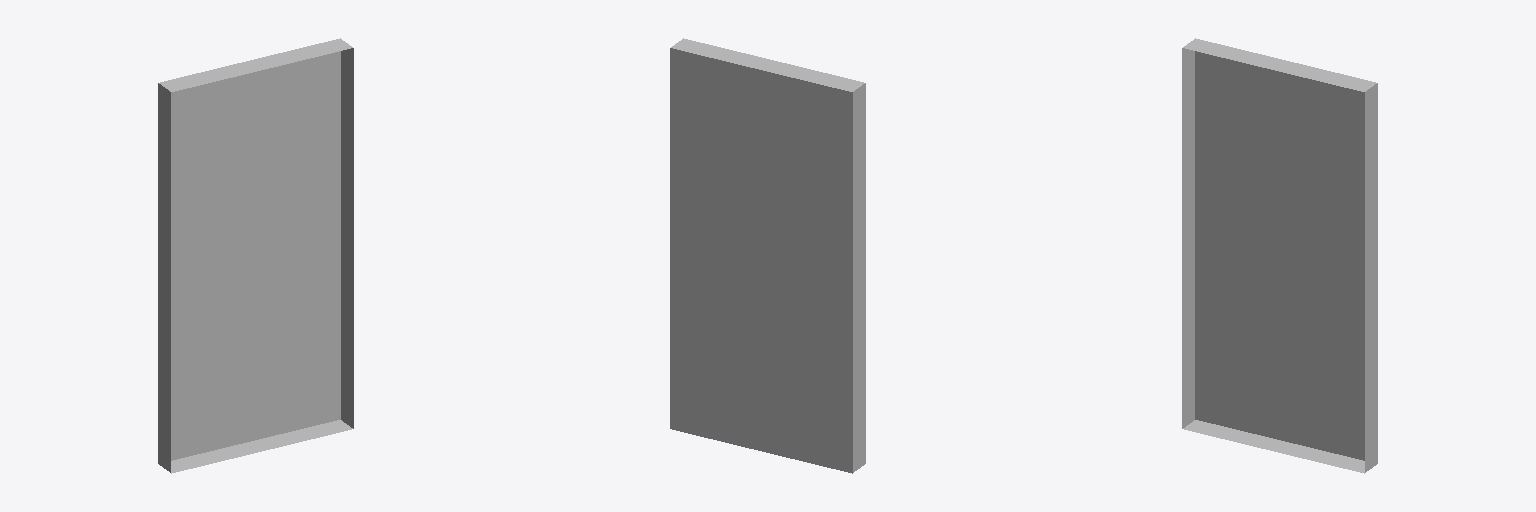
The model's file is wall_modular_plain_kitchen_straight_B.obj.
3 views of the same model, side by side, from view 1: azimuth 30°, elevation 25°; view 2: azimuth 150°, elevation 25°; view 3: azimuth 330°, elevation 25° (orthographic).
Parts seen in each view (by area): view 1: wall_modular_plain_kitchen_straight_B; view 2: wall_modular_plain_kitchen_straight_B; view 3: wall_modular_plain_kitchen_straight_B.
Boxes of the visible parts, <box> form: wall_modular_plain_kitchen_straight_B: <box>158,38,353,473</box>; wall_modular_plain_kitchen_straight_B: <box>670,38,865,473</box>; wall_modular_plain_kitchen_straight_B: <box>1182,38,1377,473</box>.
Size of the model in its own units: 2 by 4 by 0.2494.